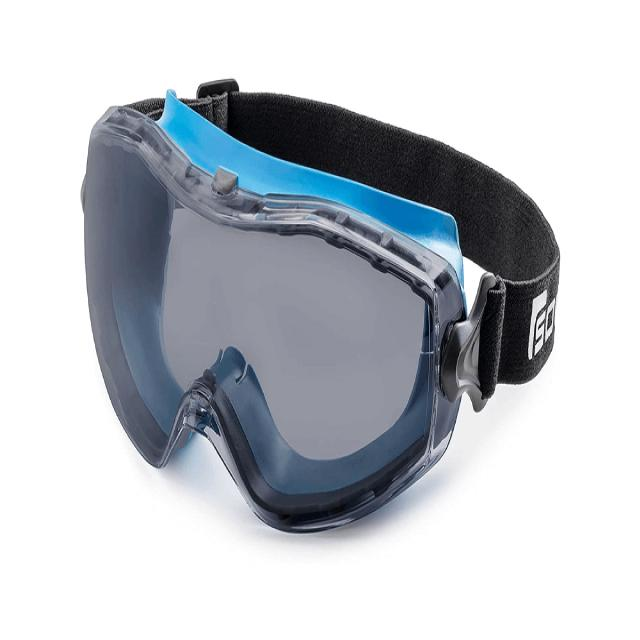Protective Glasses: (29, 18, 624, 555)
